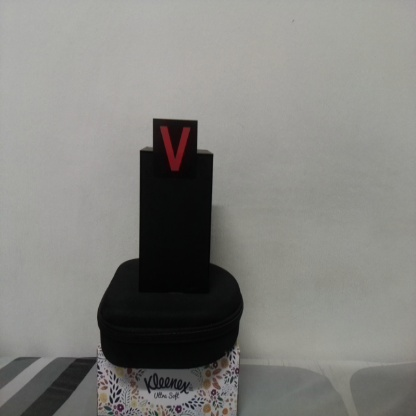id_11: (153, 119, 198, 189)
